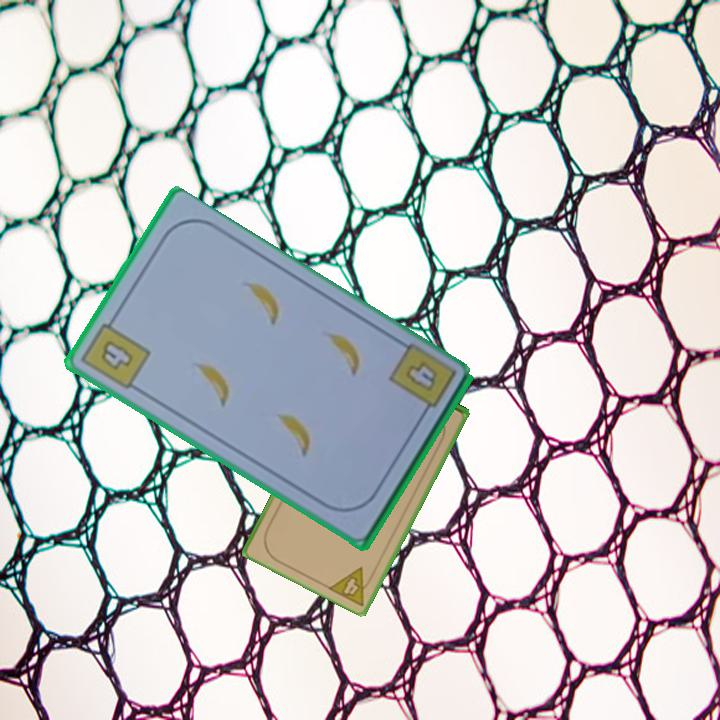4b: (77, 312, 153, 393), (401, 358, 440, 395)
4p: (325, 563, 378, 609)
